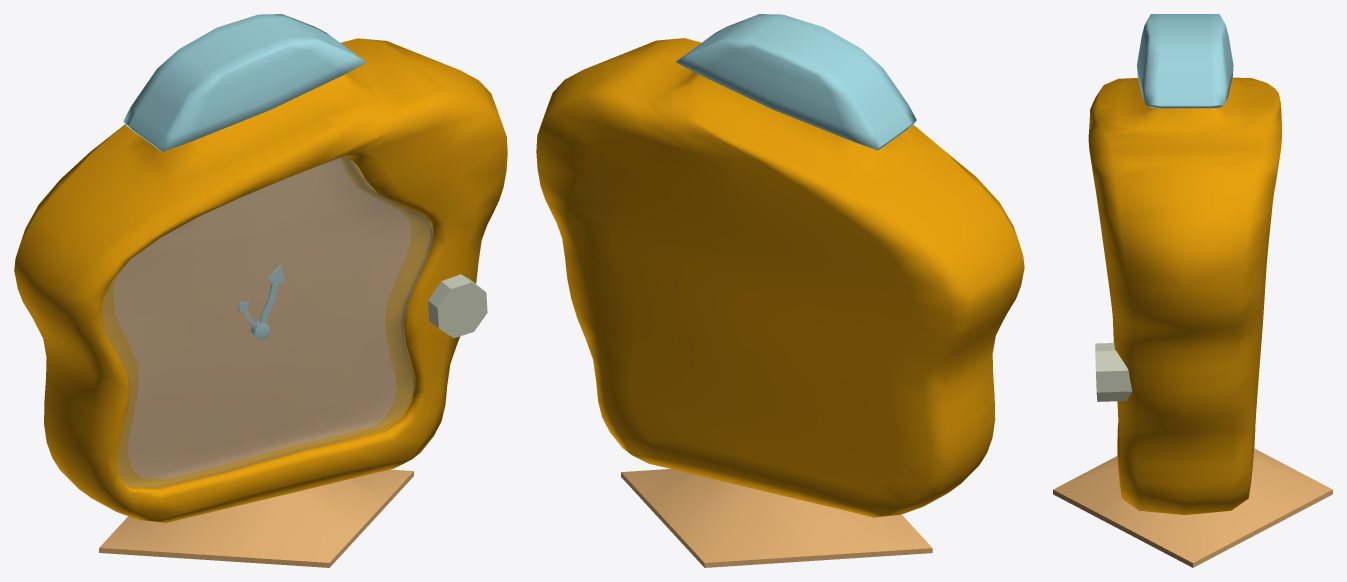
The model's file is geo_Alarm_high.fbx.
3 renders of one model, left to right at view 1: azimuth 30°, elevation 25°; view 2: azimuth 150°, elevation 25°; view 3: azimuth 270°, elevation 25°, orthographic. The views are drawn at different scales.
Visible parts, largest first — view 1: alarmClock_Body, alarmClock_Snooze, alarmClock_Button; view 2: alarmClock_Body, alarmClock_Snooze; view 3: alarmClock_Body, alarmClock_Snooze, alarmClock_Button.
Part boxes in pixels (left/top/right/bottom): alarmClock_Body: left=14, top=38, right=507, bottom=567; alarmClock_Snooze: left=123, top=14, right=366, bottom=151; alarmClock_Button: left=428, top=274, right=487, bottom=338; alarmClock_Body: left=536, top=38, right=1024, bottom=567; alarmClock_Snooze: left=676, top=14, right=916, bottom=150; alarmClock_Body: left=1053, top=77, right=1332, bottom=567; alarmClock_Snooze: left=1137, top=14, right=1233, bottom=108; alarmClock_Button: left=1095, top=343, right=1132, bottom=401.
Size of the model in its own units: 1078 by 1091 by 592.
